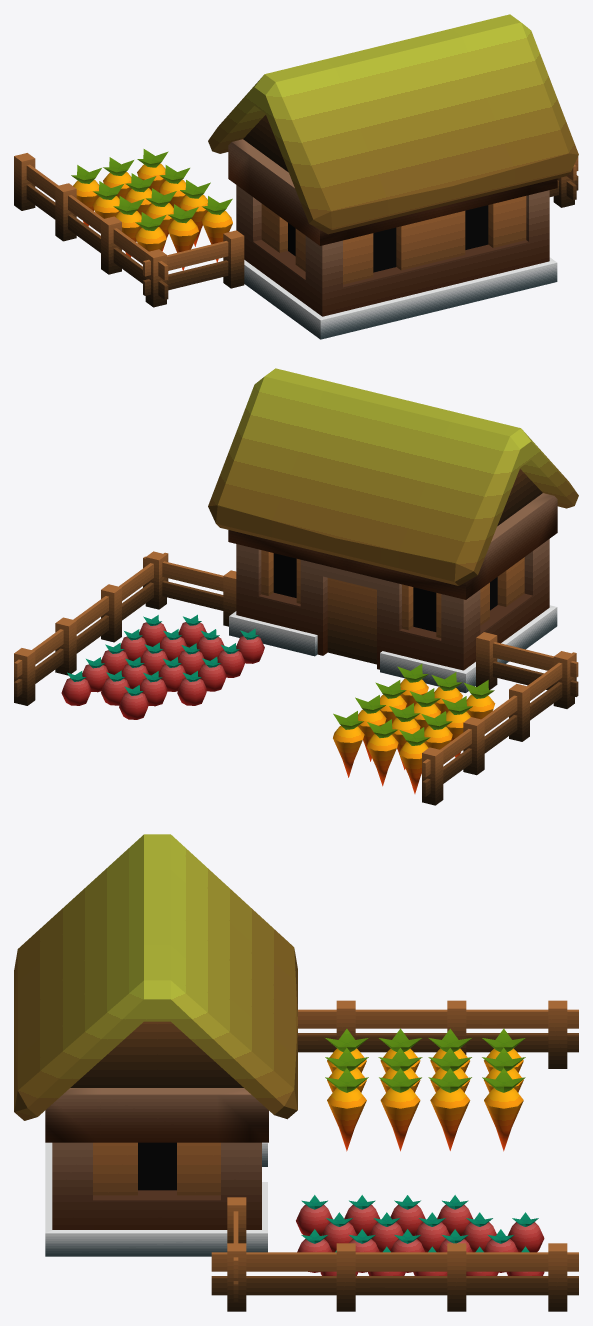
Rendered from farm_lvl2.fbx.
The picture shows the model from 3 angles, top to bottom: view 1: azimuth 30°, elevation 25°; view 2: azimuth 150°, elevation 25°; view 3: azimuth 270°, elevation 25°; orthographic projection. The views are drawn at different scales.
Parts seen in each view (by area): view 1: farm_lvl2.001; view 2: farm_lvl2.001; view 3: farm_lvl2.001.
Part boxes in pixels (left/top/right/bottom): farm_lvl2.001: left=14, top=14, right=578, bottom=339; farm_lvl2.001: left=14, top=368, right=578, bottom=805; farm_lvl2.001: left=14, top=834, right=578, bottom=1311.
Size of the model in its own units: 0.6432 by 0.3522 by 0.5959.
